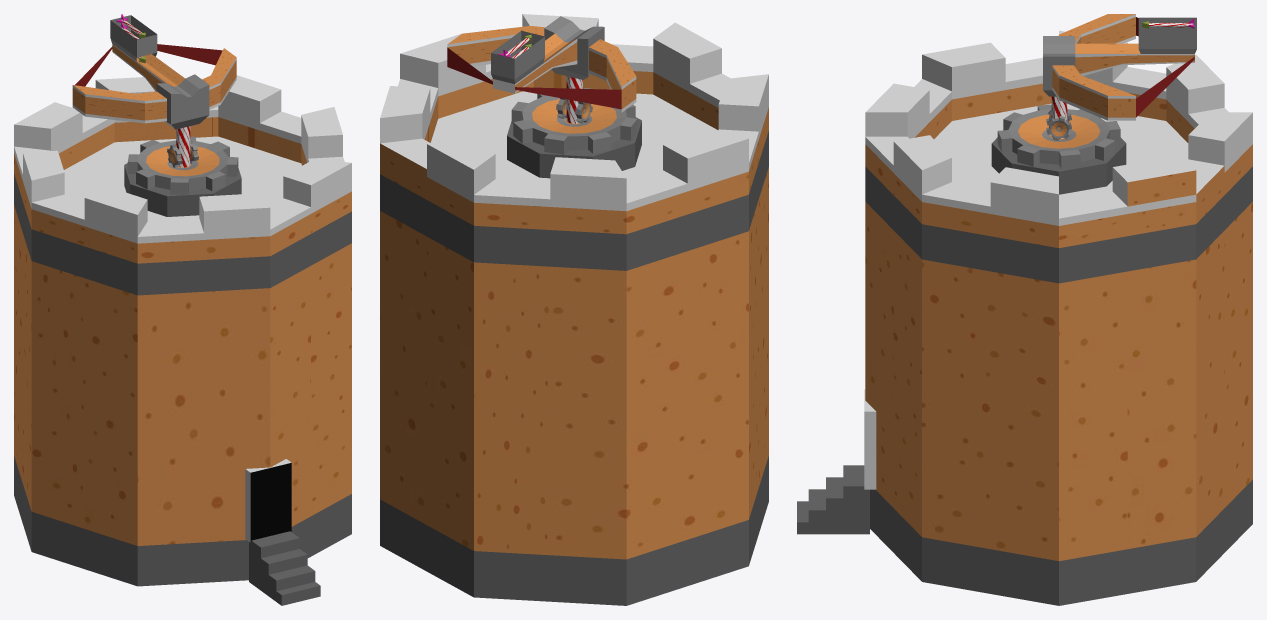
File: ballesta.fbx
3 renders of one model, left to right at view 1: azimuth 30°, elevation 25°; view 2: azimuth 150°, elevation 25°; view 3: azimuth 270°, elevation 25°, orthographic. The views are drawn at different scales.
Parts seen in each view (by area): view 1: Cylinder, Cube, Cube.004, Cube.005, Cube.001, Cube.002, Cylinder.003; view 2: Cylinder, Cube, Cube.004, Cube.001, Cube.005, Cube.002; view 3: Cylinder, Cube, Cube.004, Cube.002, Cube.001, Cube.005.
Part boxes in pixels (left/top/right/bottom): Cylinder: left=14, top=75, right=351, bottom=605; Cube: left=72, top=44, right=236, bottom=123; Cube.004: left=127, top=136, right=238, bottom=194; Cube.005: left=156, top=74, right=209, bottom=129; Cube.001: left=110, top=15, right=157, bottom=61; Cube.002: left=112, top=44, right=184, bottom=91; Cylinder.003: left=176, top=126, right=190, bottom=167; Cylinder: left=380, top=14, right=768, bottom=605; Cube: left=447, top=26, right=636, bottom=112; Cube.004: left=511, top=87, right=637, bottom=154; Cube.001: left=491, top=30, right=544, bottom=83; Cube.005: left=544, top=16, right=604, bottom=79; Cube.002: left=493, top=33, right=577, bottom=93; Cylinder: left=797, top=30, right=1252, bottom=605; Cube: left=1052, top=14, right=1194, bottom=120; Cube.004: left=997, top=104, right=1120, bottom=169; Cube.002: left=1075, top=43, right=1194, bottom=75; Cube.001: left=1138, top=17, right=1196, bottom=53; Cube.005: left=1043, top=36, right=1075, bottom=96.
Size of the model in its own units: 200 by 288 by 235.
